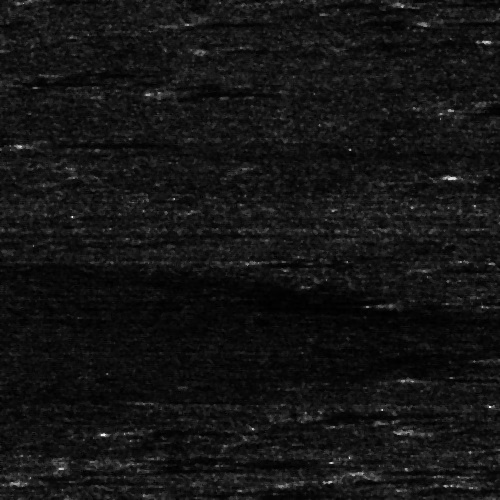object: (281, 451, 458, 486), (112, 88, 237, 97), (398, 170, 500, 179), (0, 137, 59, 146), (457, 483, 488, 500), (387, 426, 460, 433), (397, 18, 460, 23), (116, 397, 157, 404), (397, 374, 450, 379), (446, 296, 499, 301), (164, 20, 205, 25), (0, 79, 33, 84), (473, 357, 500, 360), (489, 38, 500, 41)
shadow: (370, 451, 500, 486), (23, 137, 160, 146), (175, 88, 272, 97), (424, 426, 500, 433), (185, 20, 283, 25), (6, 79, 99, 84), (455, 170, 500, 179), (424, 374, 500, 379), (136, 397, 188, 404), (429, 18, 500, 23), (473, 296, 500, 301)
